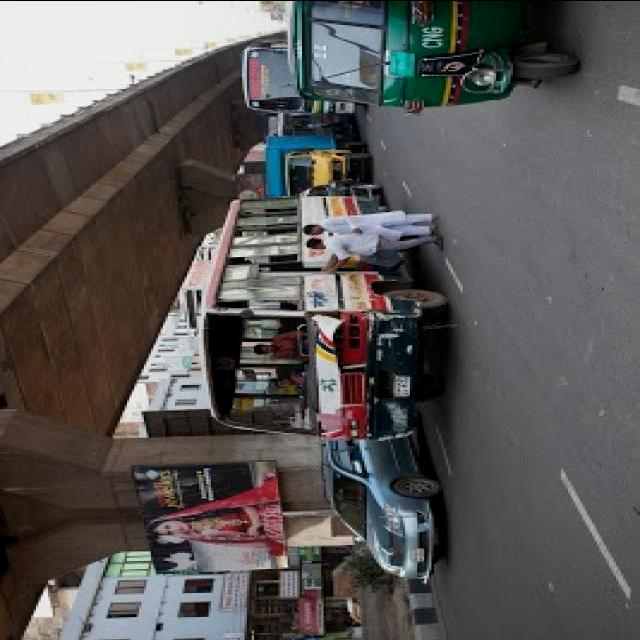bus: (198, 196, 451, 441)
